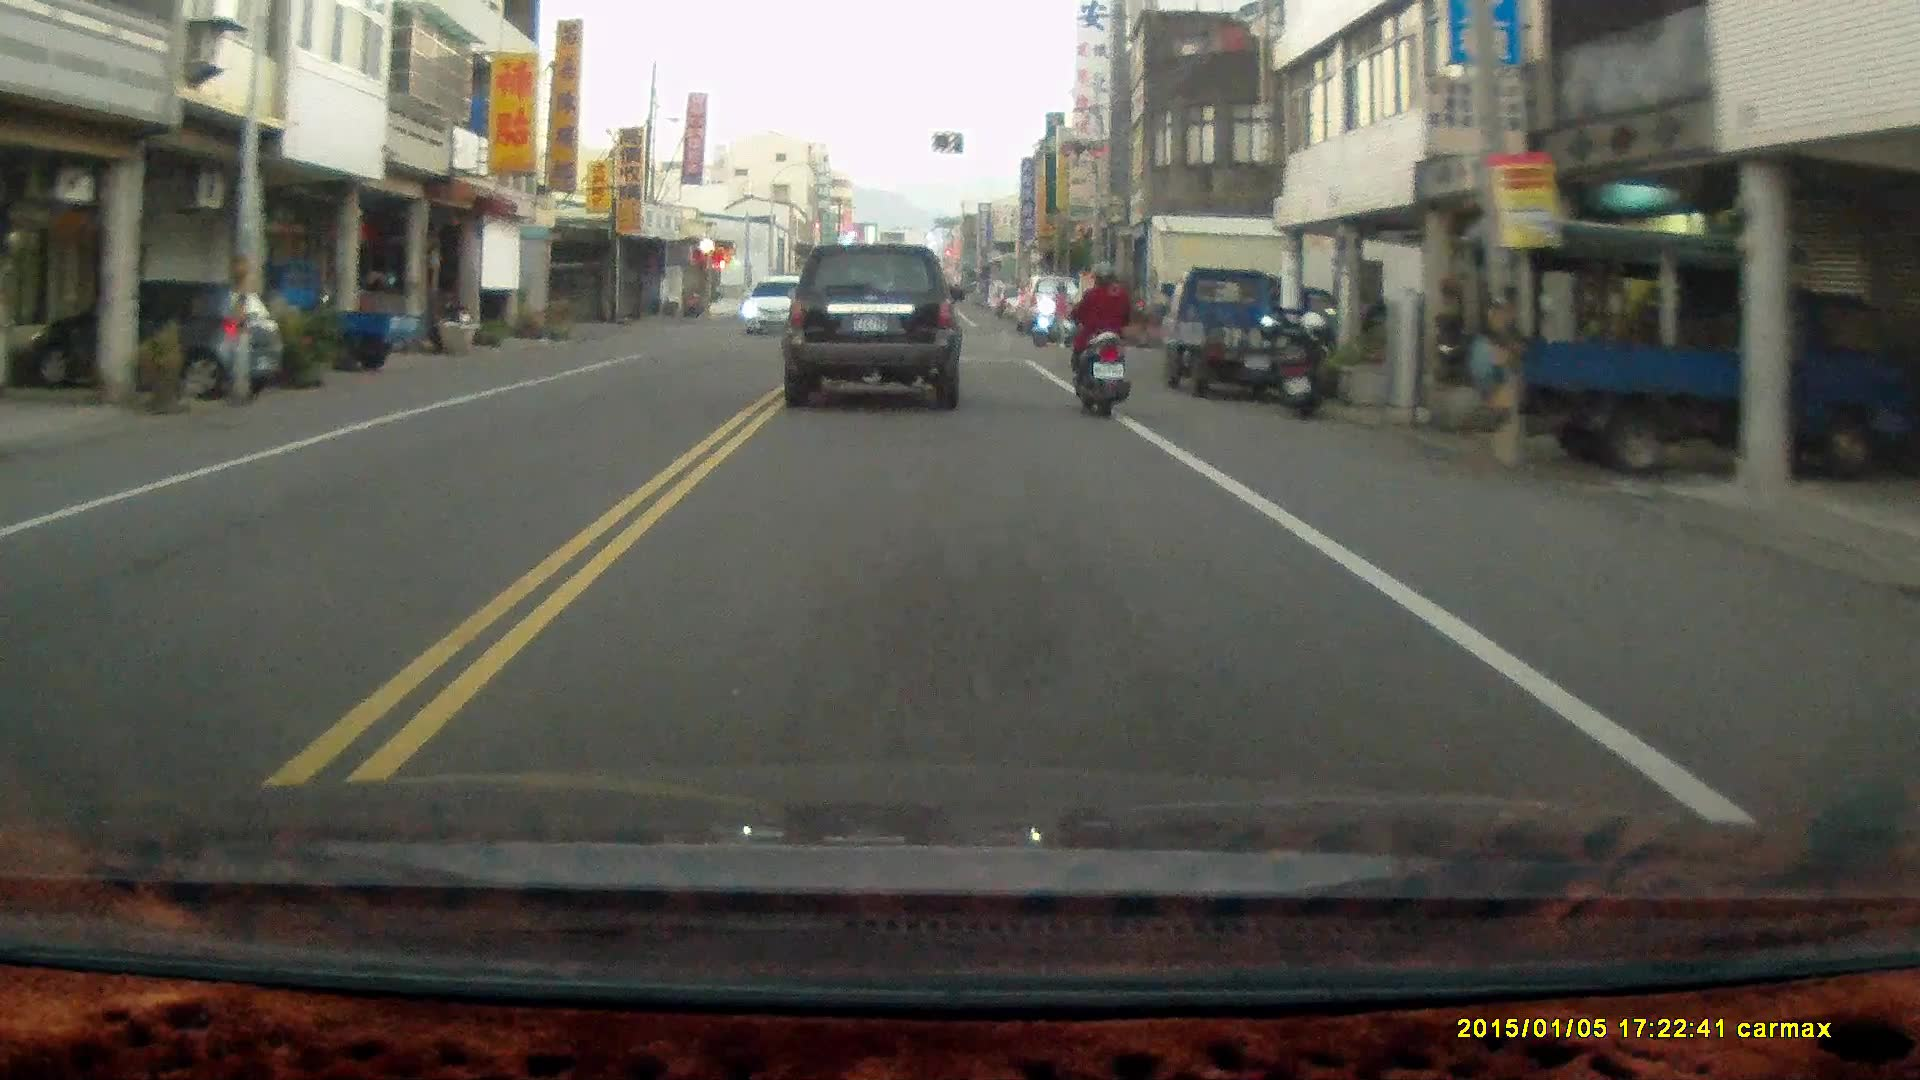rider: (1071, 258, 1130, 415), (1028, 281, 1074, 345)
vehicle: (1514, 222, 1912, 470), (28, 276, 283, 400), (784, 243, 964, 406), (1160, 267, 1330, 400), (232, 273, 429, 372), (743, 274, 813, 335)
